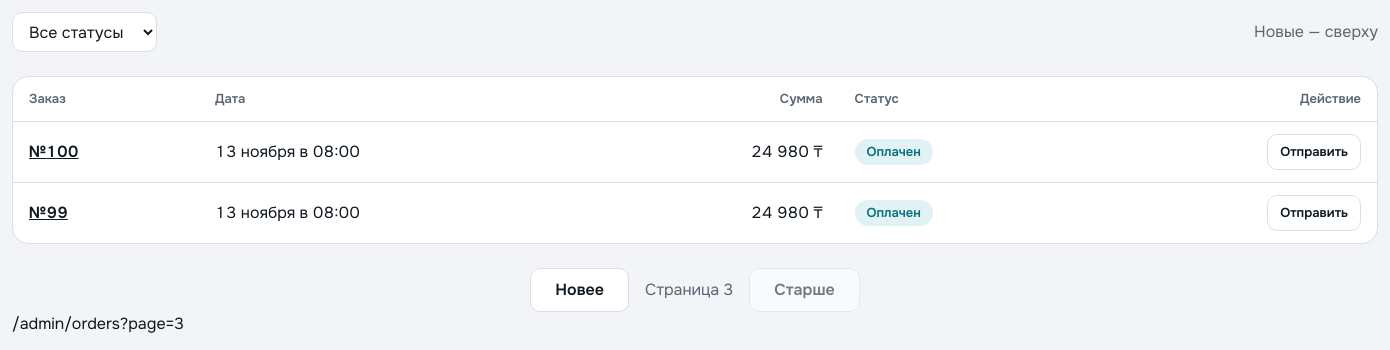
Test: смена статуса в фильтре сбрасывает страницу
The image size is (1390, 350).
Select "Отменён" in the dropdown named "Статус" at coordinates (84, 32), box [12,12,157,52]
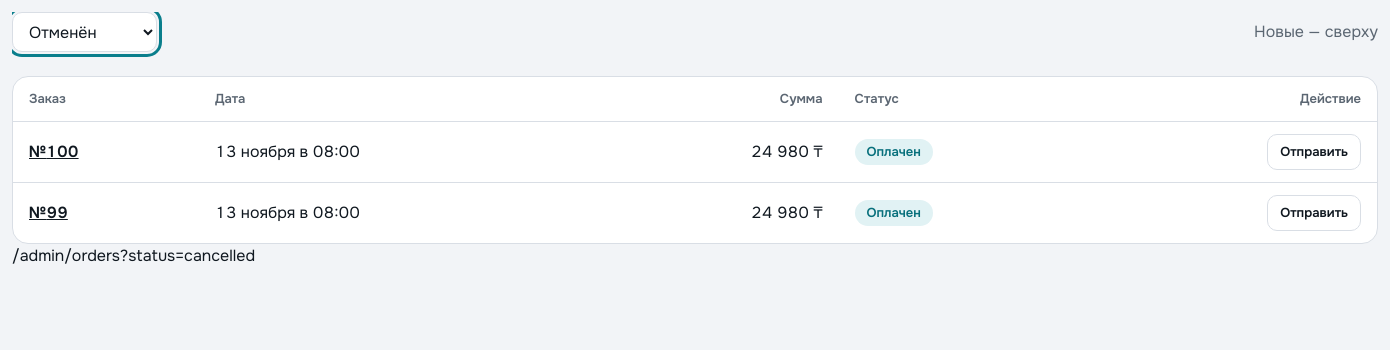
Expected: the text with test id "location" reads "/admin/orders?status=cancelled", [12,244,255,266]
